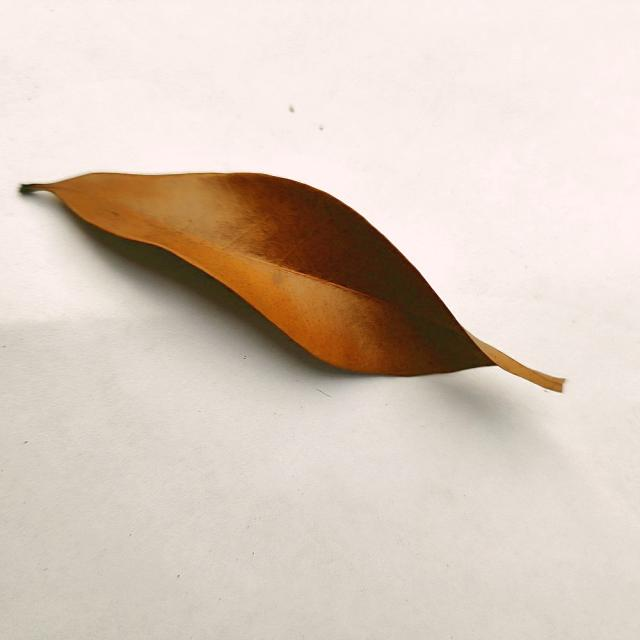Dry_Leaf-Lychee: (21, 173, 566, 394)
